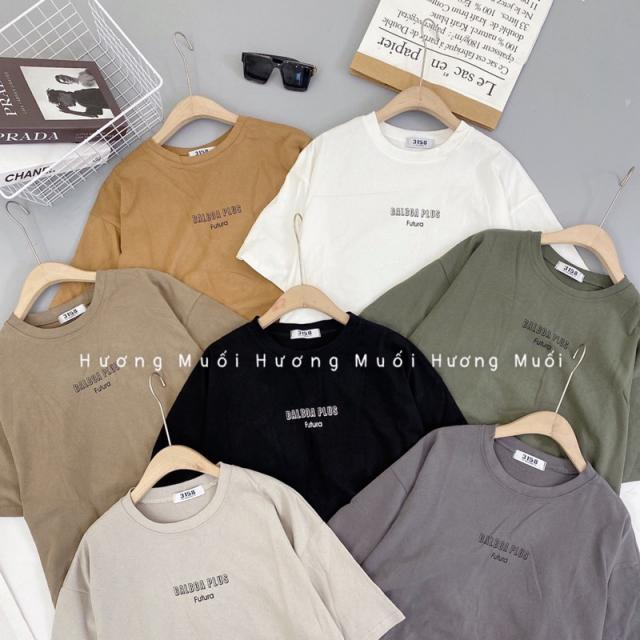Shirt: (0, 260, 250, 596), (238, 109, 592, 309), (353, 232, 639, 478), (328, 423, 640, 639), (58, 455, 406, 639), (152, 317, 468, 513), (73, 113, 310, 324)
